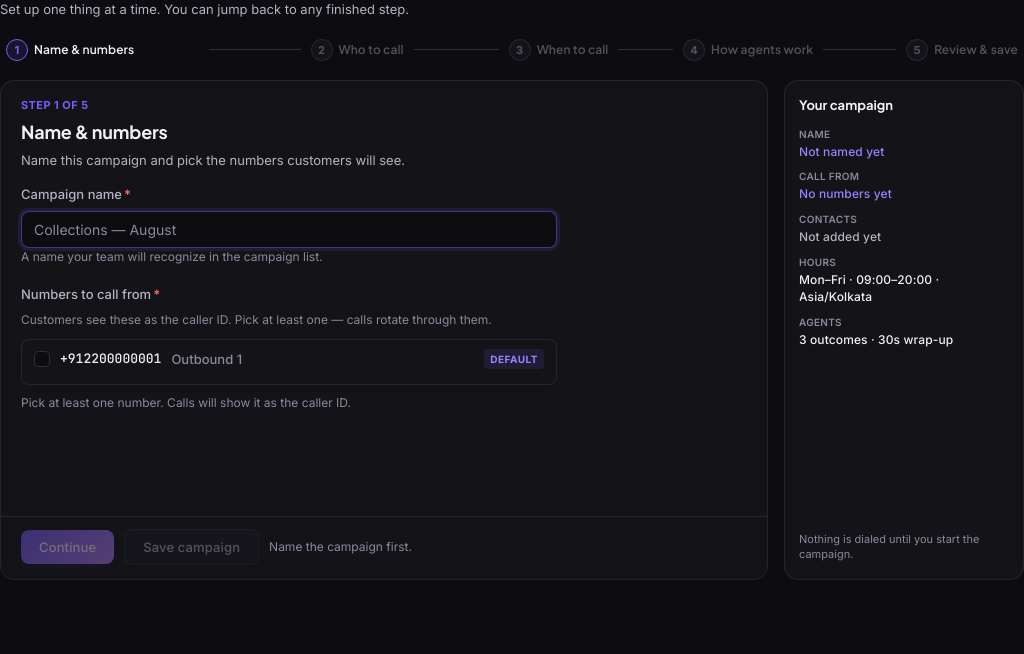
it: the disposition catalog editor › survives being typed into one character at a time, caret and all
The image size is (1024, 654).
In the field labelled "Campaign name*": (289, 229) x1=21 y1=211 x2=557 y2=248, type "Collections"
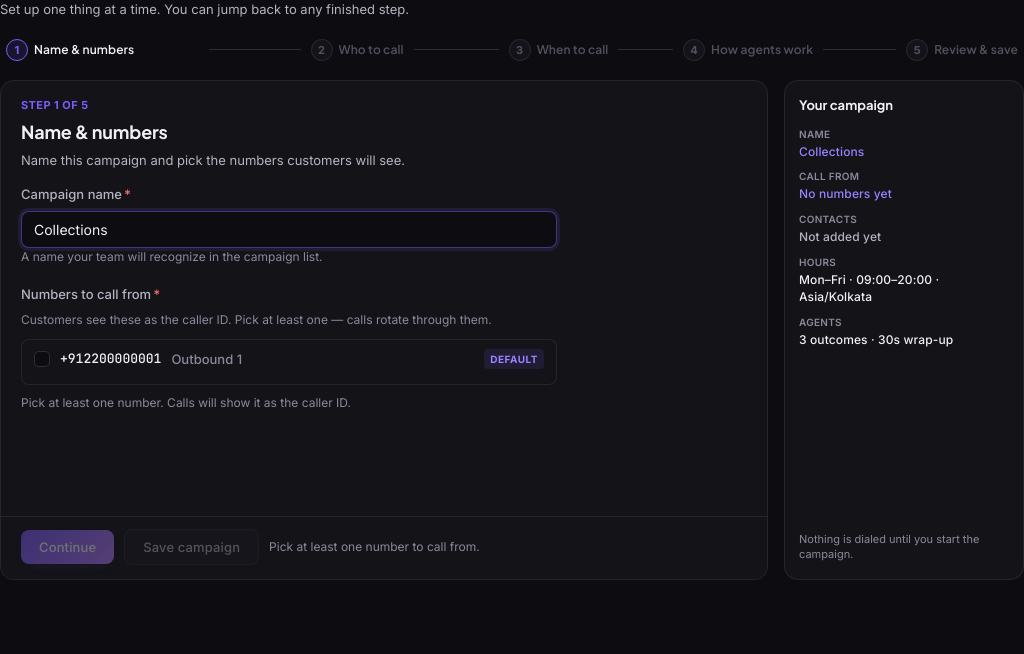
Click the checkbox labelled "+912200000001 Outbound 1 Default": (42, 359) x1=34 y1=351 x2=50 y2=367
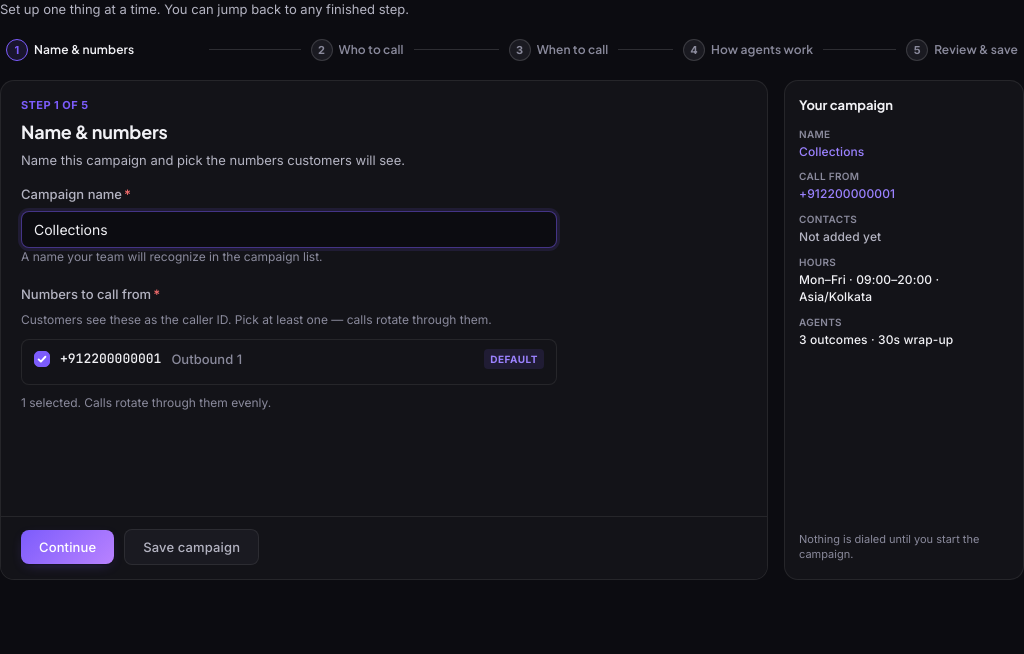
Click the button "4 How agents work": (748, 50) x1=677 y1=34 x2=819 y2=66
(page scrolled)
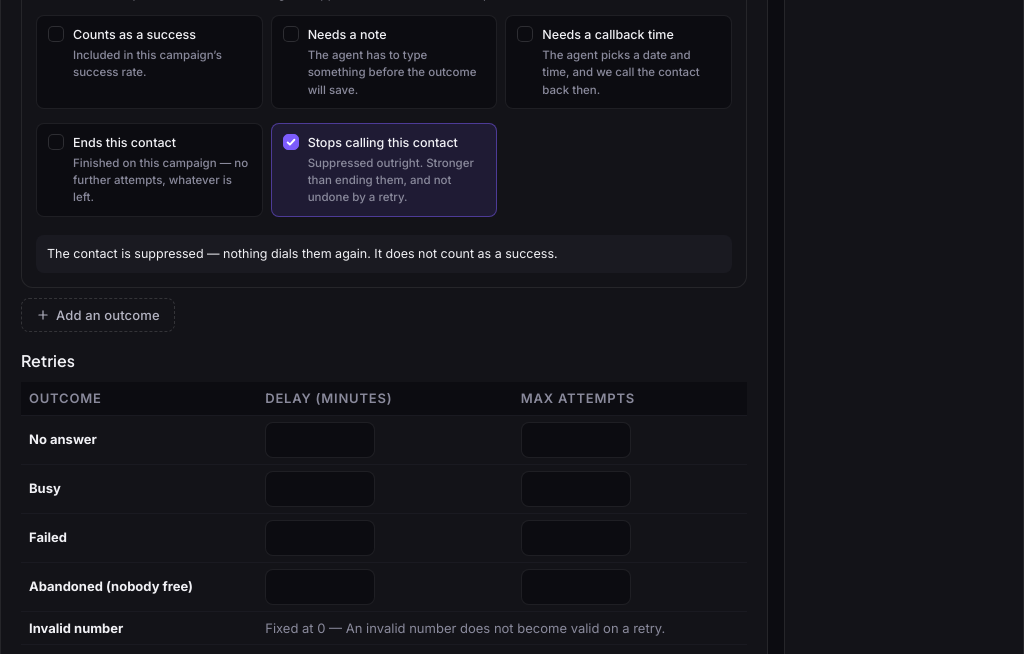
Click the button "Add an outcome": (98, 315) x1=21 y1=298 x2=175 y2=332
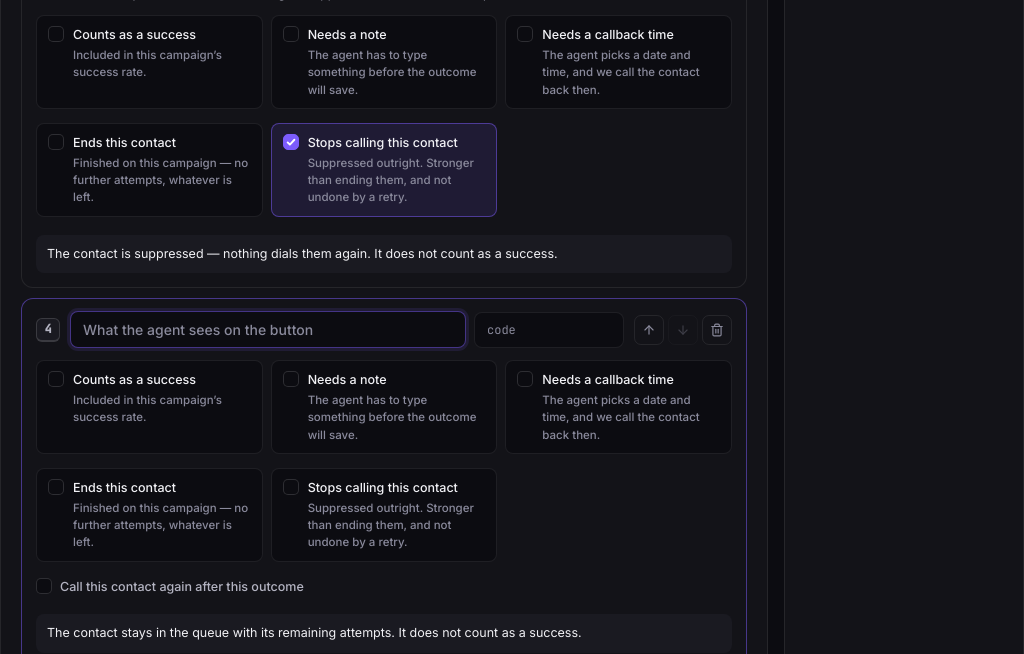
In the field named "Outcome 4 label": (268, 330) x1=70 y1=311 x2=466 y2=348, type "S"
Replace the text in the field named "Outcome 4 label" with "Sa": (268, 330) x1=70 y1=311 x2=466 y2=348
Replace the text in the field named "Outcome 4 label" with "Sal": (268, 330) x1=70 y1=311 x2=466 y2=348
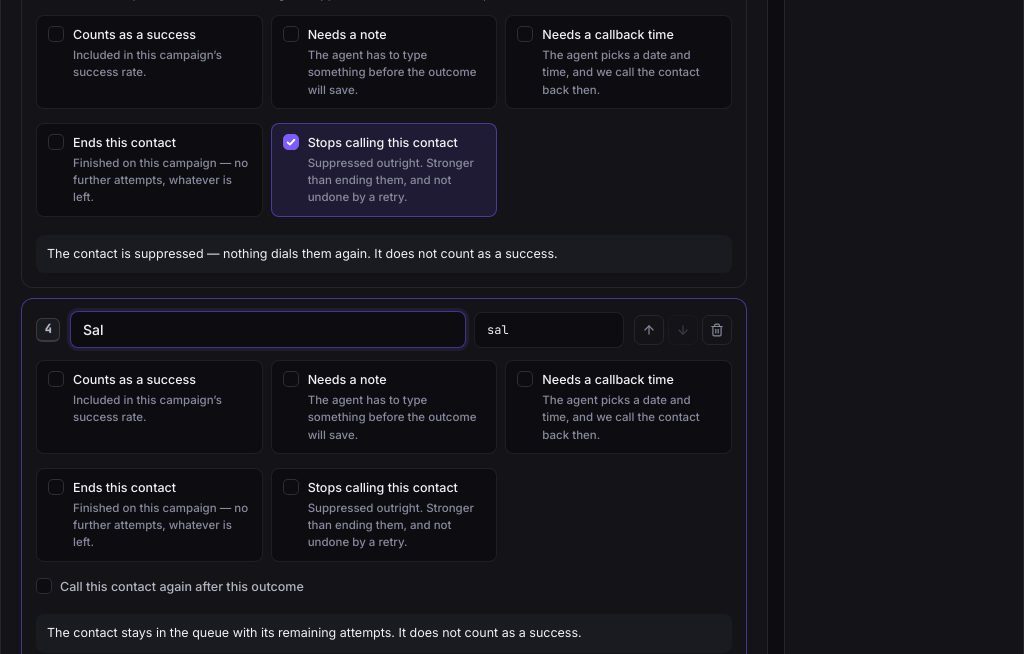
Replace the text in the field named "Outcome 4 label" with "Sale": (268, 330) x1=70 y1=311 x2=466 y2=348
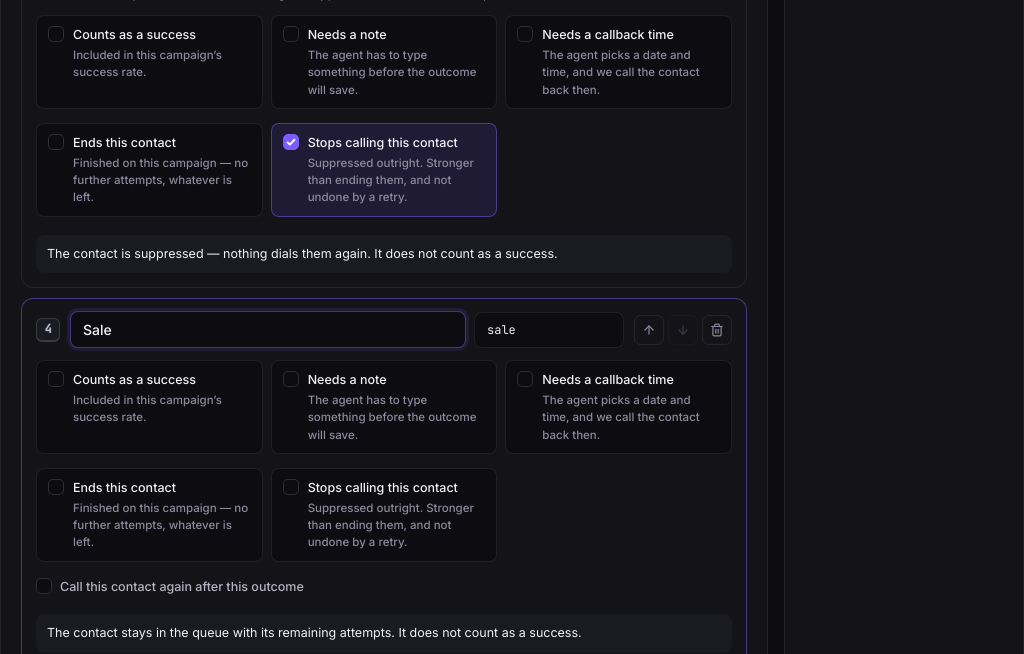
Check: the field named "Outcome 4 code" holds "sale", box x1=474 y1=312 x2=624 y2=348
